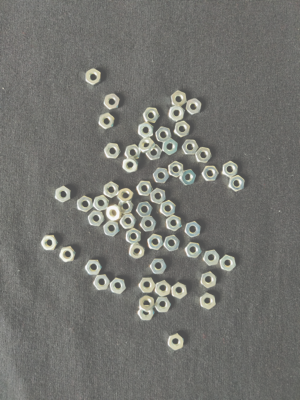nut: (200, 292, 217, 310), (201, 271, 218, 289), (110, 278, 127, 295), (220, 255, 237, 272), (185, 242, 202, 259), (106, 204, 123, 221), (150, 188, 167, 205), (117, 188, 134, 205), (229, 175, 246, 192), (180, 169, 197, 186), (222, 161, 239, 178), (143, 107, 160, 124), (168, 333, 184, 351), (139, 295, 155, 313), (139, 277, 157, 293), (93, 275, 111, 291), (59, 247, 77, 263), (104, 143, 122, 159), (155, 297, 172, 313), (172, 282, 188, 299), (155, 281, 172, 297), (85, 260, 102, 276), (150, 259, 167, 275), (203, 250, 220, 266), (129, 243, 146, 259), (164, 235, 180, 252), (148, 234, 164, 251), (185, 222, 202, 238), (166, 215, 182, 232), (140, 216, 157, 232), (120, 214, 137, 230), (104, 220, 120, 237), (88, 211, 105, 227), (160, 200, 176, 217), (136, 202, 153, 218), (94, 195, 110, 212), (78, 196, 94, 213), (153, 168, 170, 184), (123, 157, 139, 174), (196, 147, 213, 163), (182, 139, 199, 155), (139, 137, 155, 154), (175, 121, 191, 138), (99, 113, 115, 130), (169, 105, 185, 122), (186, 99, 202, 116), (202, 166, 220, 181), (163, 138, 178, 156), (137, 181, 153, 197), (146, 145, 162, 161), (104, 94, 120, 110), (126, 228, 141, 245), (56, 186, 71, 203), (104, 182, 119, 199), (169, 161, 184, 178), (139, 122, 154, 139), (86, 69, 101, 86), (42, 236, 58, 251), (156, 127, 172, 142), (172, 91, 187, 107), (125, 145, 142, 159), (138, 309, 155, 321), (118, 202, 134, 214)
